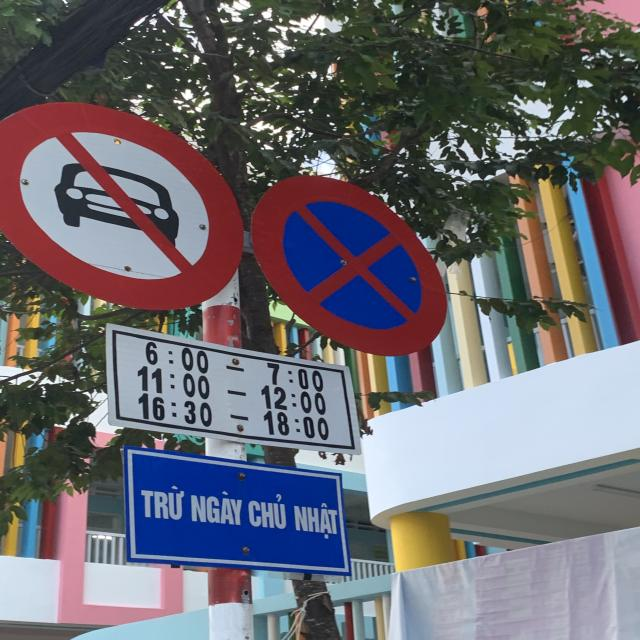Cam_Dung_Va_Dau_Xe: (254, 175, 454, 360)
Cam_O_To: (0, 103, 244, 310)
